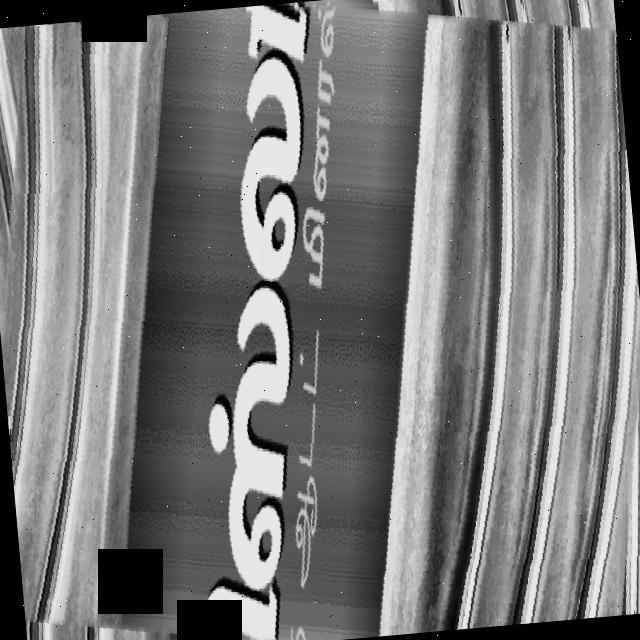bottle: (1, 3, 640, 640)
